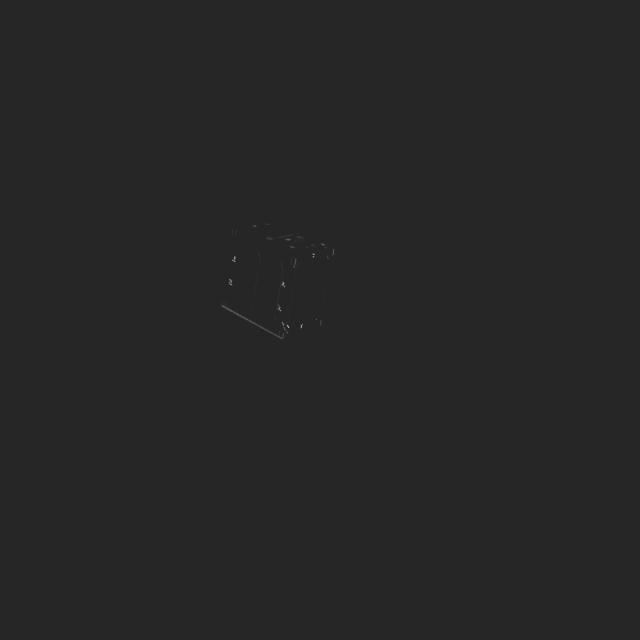satellite: (211, 203, 346, 345)
